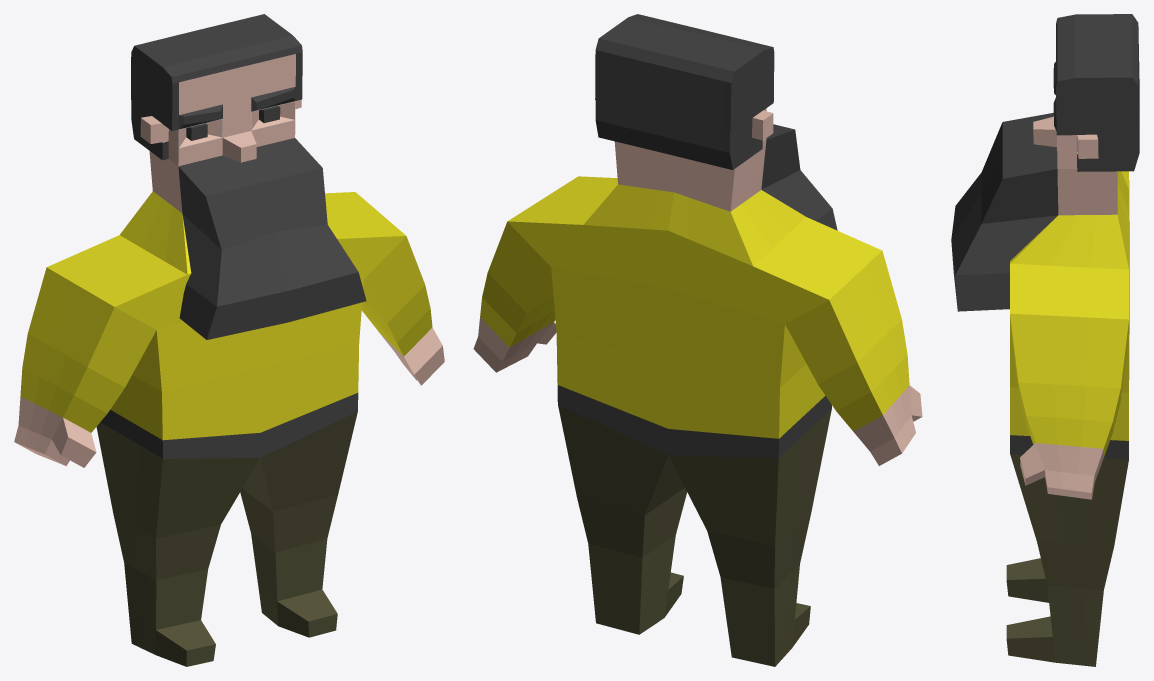
Rendered from QuestGiver2.fbx.
3 renders of one model, left to right at view 1: azimuth 30°, elevation 25°; view 2: azimuth 150°, elevation 25°; view 3: azimuth 270°, elevation 25°, orthographic. The views are drawn at different scales.
Visible parts, largest first — view 1: Cube; view 2: Cube; view 3: Cube.
Part boxes in pixels (x1=…): Cube: x1=14, y1=14, x2=444, y2=666; Cube: x1=473, y1=14, x2=922, y2=666; Cube: x1=951, y1=14, x2=1139, y2=666.
Size of the model in its own units: 132 by 178 by 52.31.
